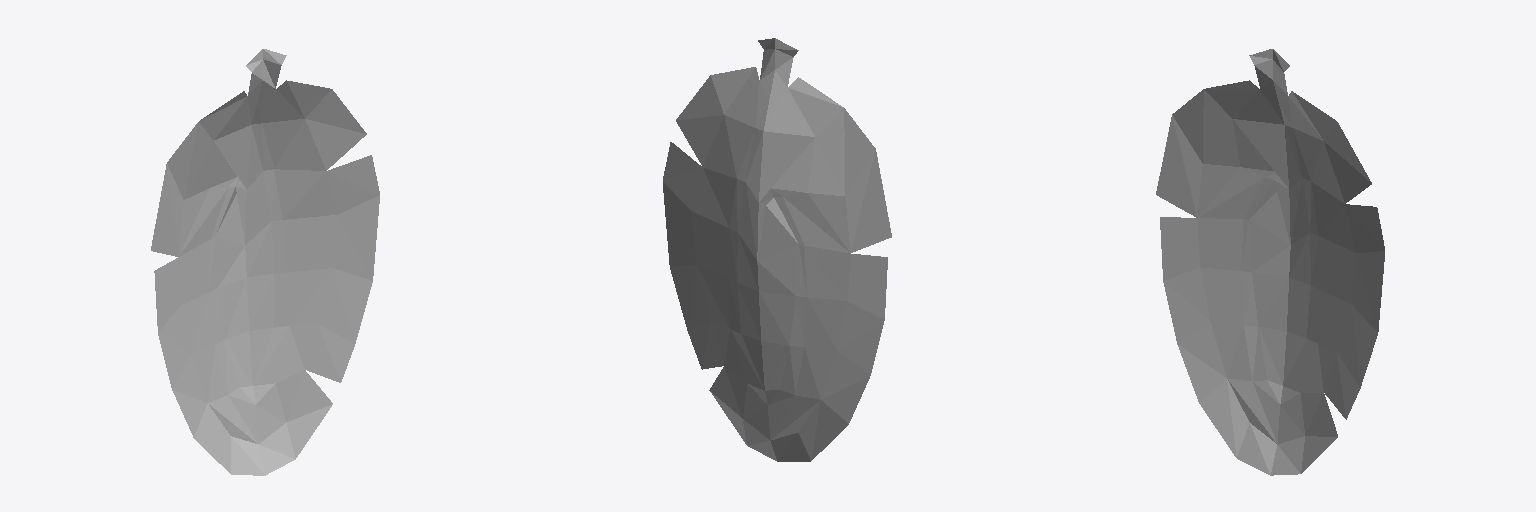
The model's file is banana_leaf_door.obj.
The picture shows the model from 3 angles: view 1: azimuth 30°, elevation 25°; view 2: azimuth 150°, elevation 25°; view 3: azimuth 330°, elevation 25°; orthographic projection.
Parts seen in each view (by area): view 1: pCube6; view 2: pCube6; view 3: pCube6.
Boxes of the visible parts, x1,y1,x2,y2 form: pCube6: [151, 49, 379, 475]; pCube6: [663, 38, 891, 461]; pCube6: [1156, 49, 1384, 475].
Size of the model in its own units: 1.58 by 2.8 by 0.2555.